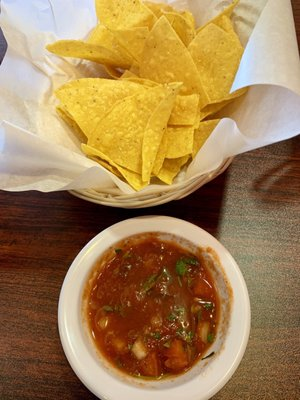soup: (52, 77, 190, 191), (82, 80, 178, 190)
sushi: (57, 217, 251, 400)
